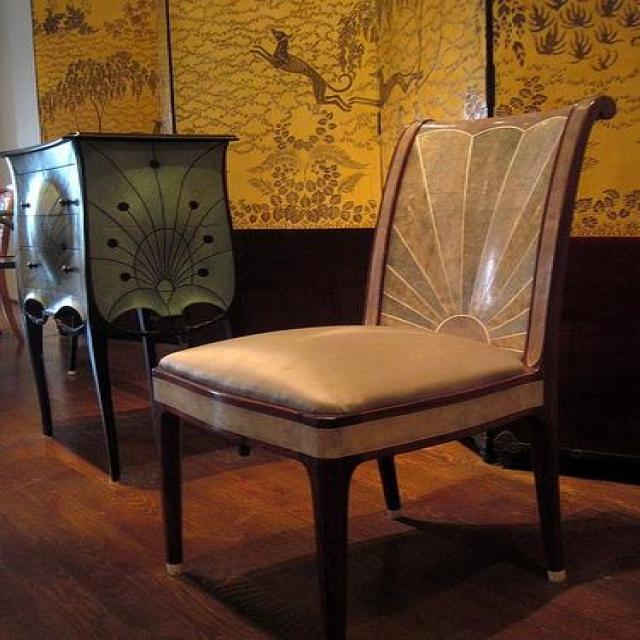chair: (149, 93, 616, 639)
